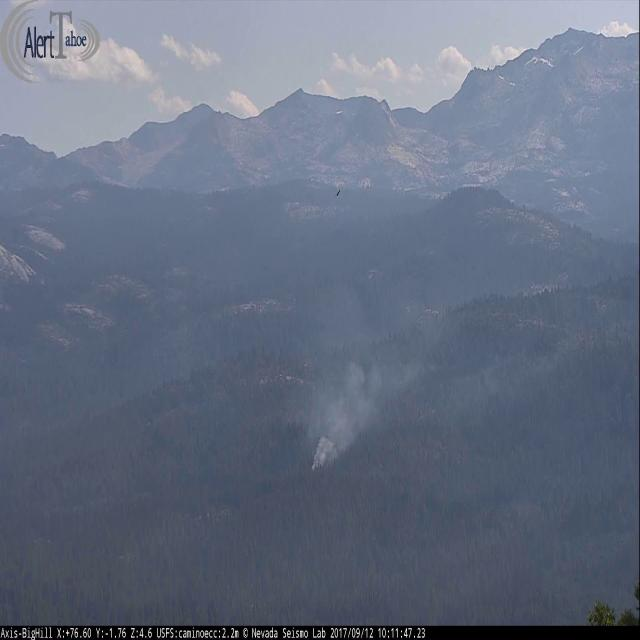smoke: (284, 281, 568, 469)
